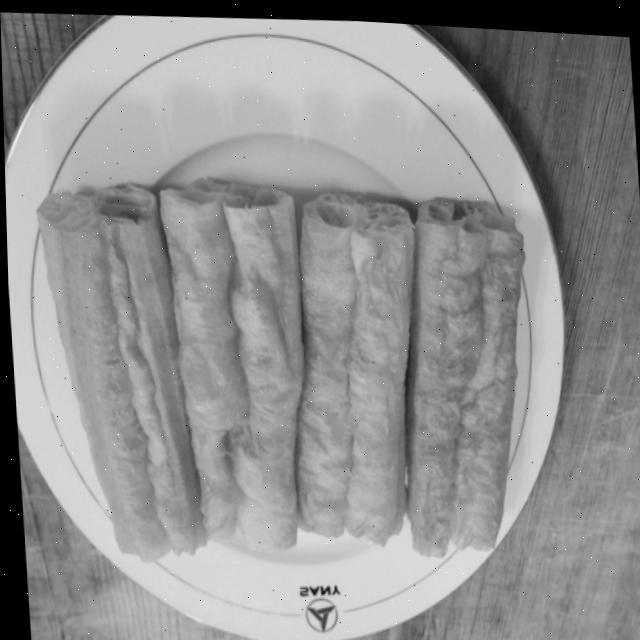炸货点心: (31, 98, 582, 628)
